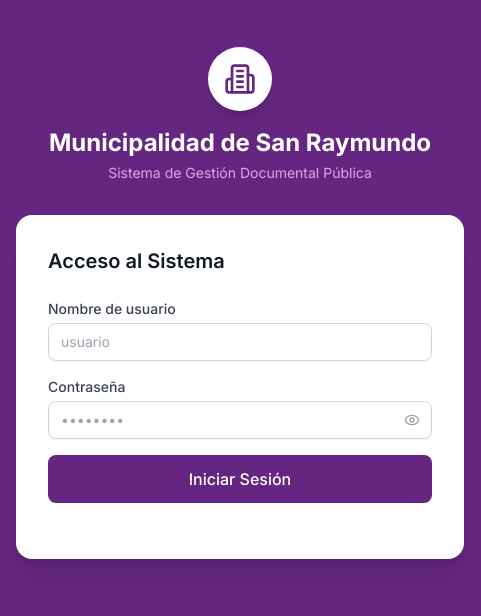
Scenario: LoginPage › muestra mensaje de cuenta bloqueada en error 403
In the field labelled "Nombre de usuario": (240, 342) [48,323,432,361], type "ana"
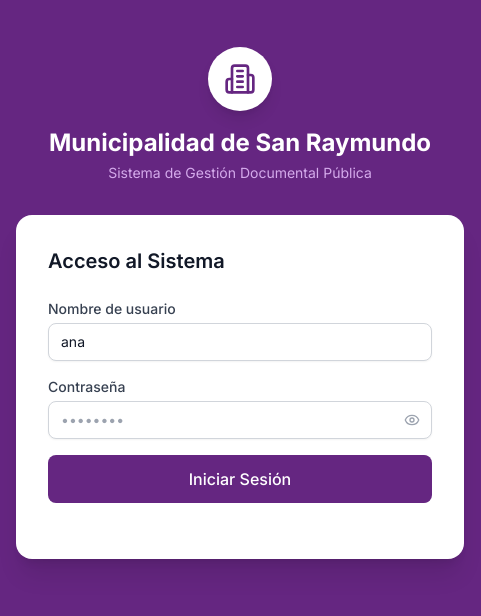
In the password field with placeholder "••••••••": (240, 420) [48,401,432,439], type "wrong"
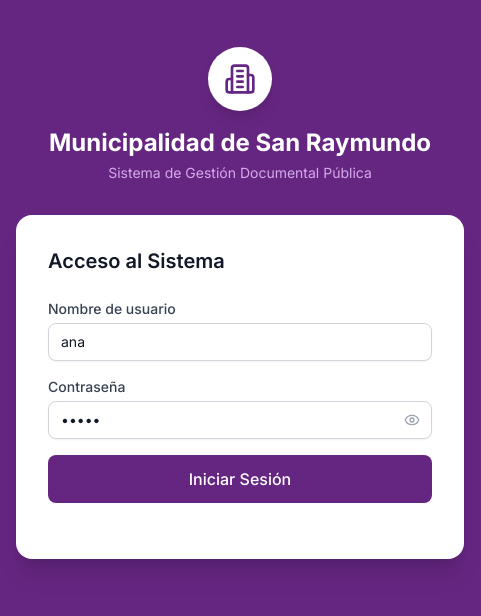
Click the button "Iniciar Sesión": click(240, 479) [48,455,432,503]
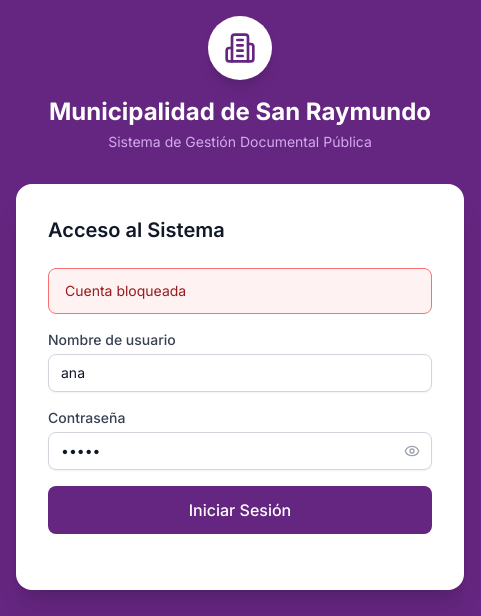
Check: the text "Cuenta bloqueada" is shown, box [48,268,432,314]
